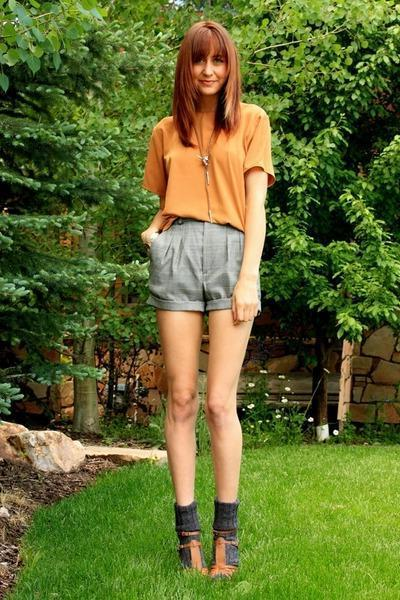Shorts: (146, 212, 267, 315)
short sleeve shirt: (147, 102, 279, 231)
